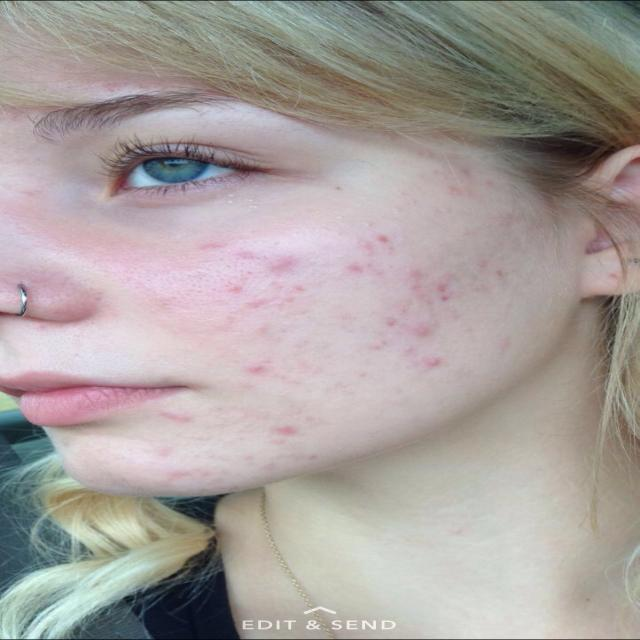Acne: (238, 243, 332, 281), (434, 158, 516, 200), (208, 271, 289, 312), (374, 311, 476, 342), (401, 344, 476, 381), (274, 271, 348, 303), (181, 236, 276, 260), (141, 402, 216, 430), (261, 414, 321, 444), (334, 266, 412, 288), (228, 361, 300, 381), (425, 284, 487, 303), (361, 228, 421, 246)
